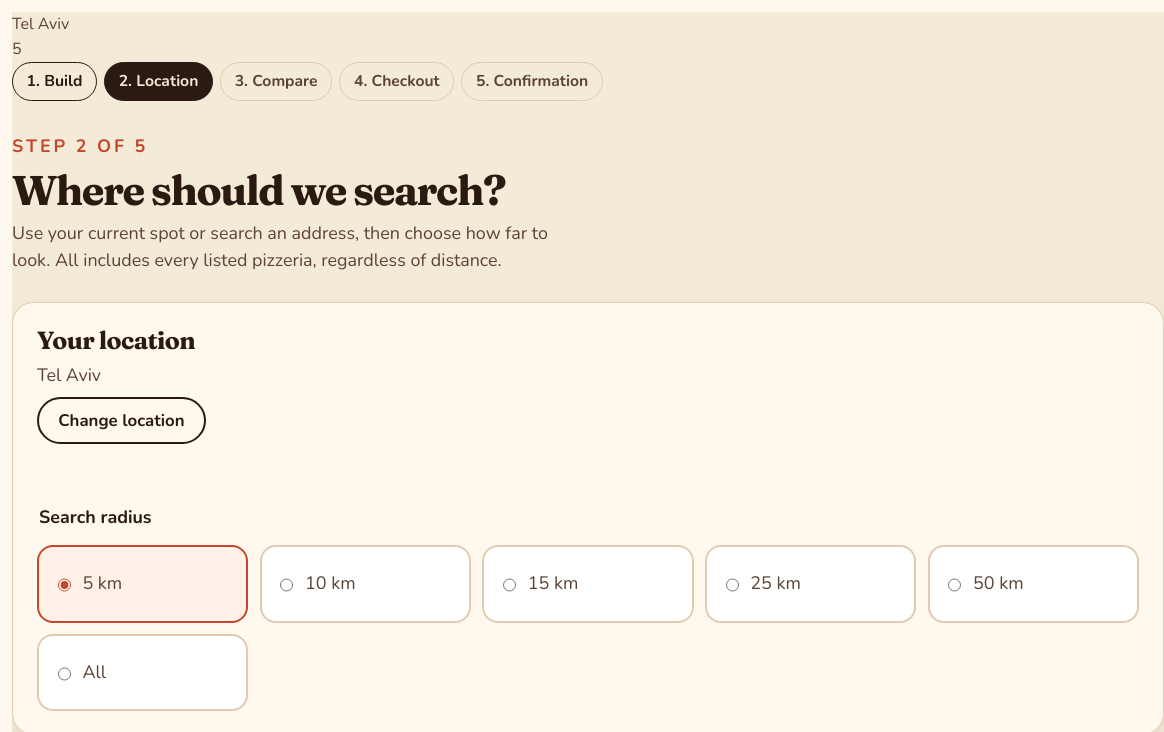
Test: LocationPage › changes radius without reopening location search
Check: the text with test id "location" reads "Tel Aviv", box [12,13,69,35]
Check: the radio button labelled "5 km" is checked, box [58,561,71,609]
Click the radio button labelled "10 km" at (287, 585), box [280,561,293,609]
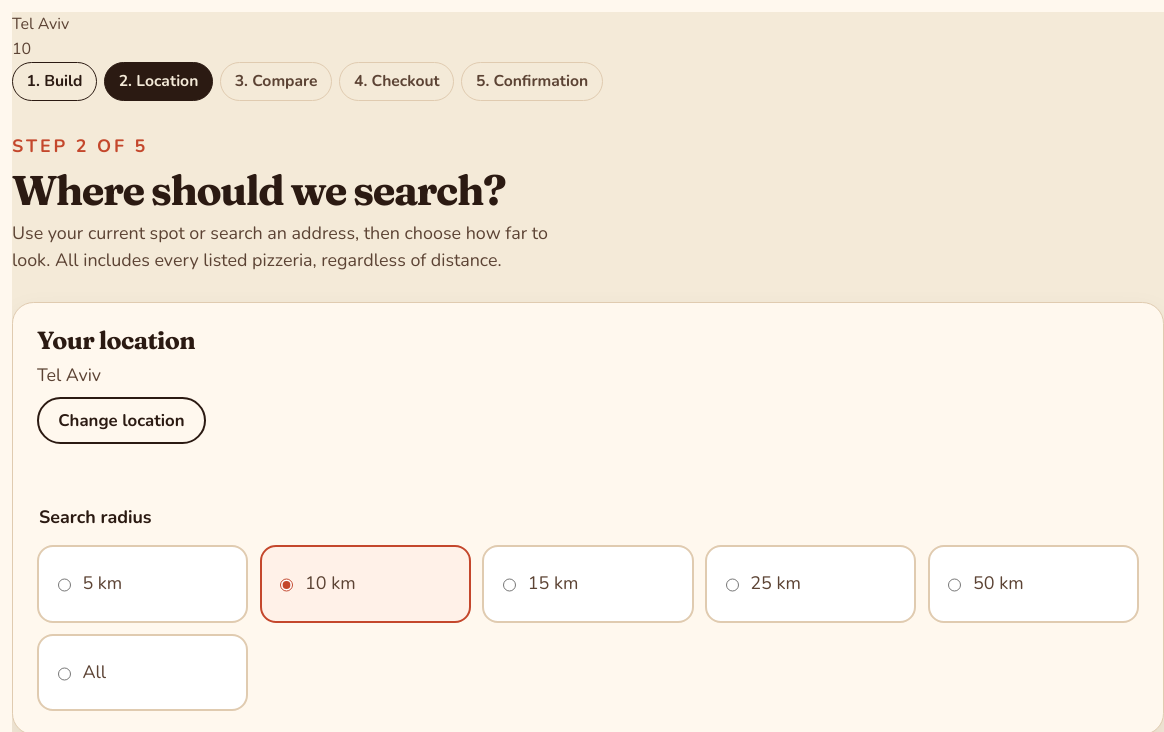
Check: the text with test id "location" reads "Tel Aviv", box [12,13,69,35]
Check: the text with test id "radius" reads "10", box [12,38,31,60]
